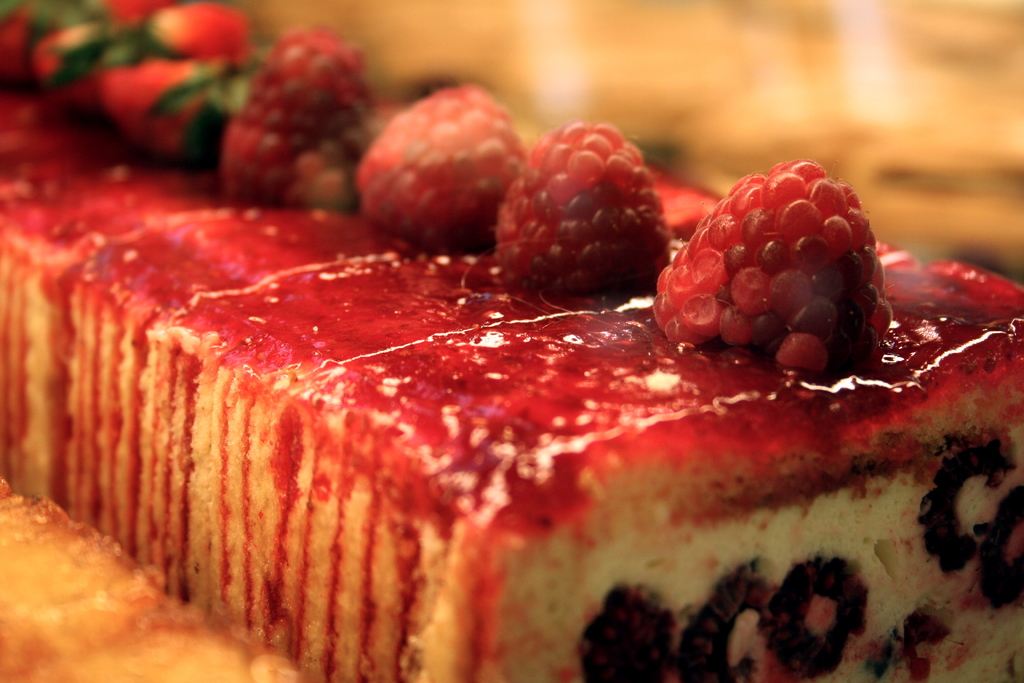cake: (0, 0, 1021, 678)
